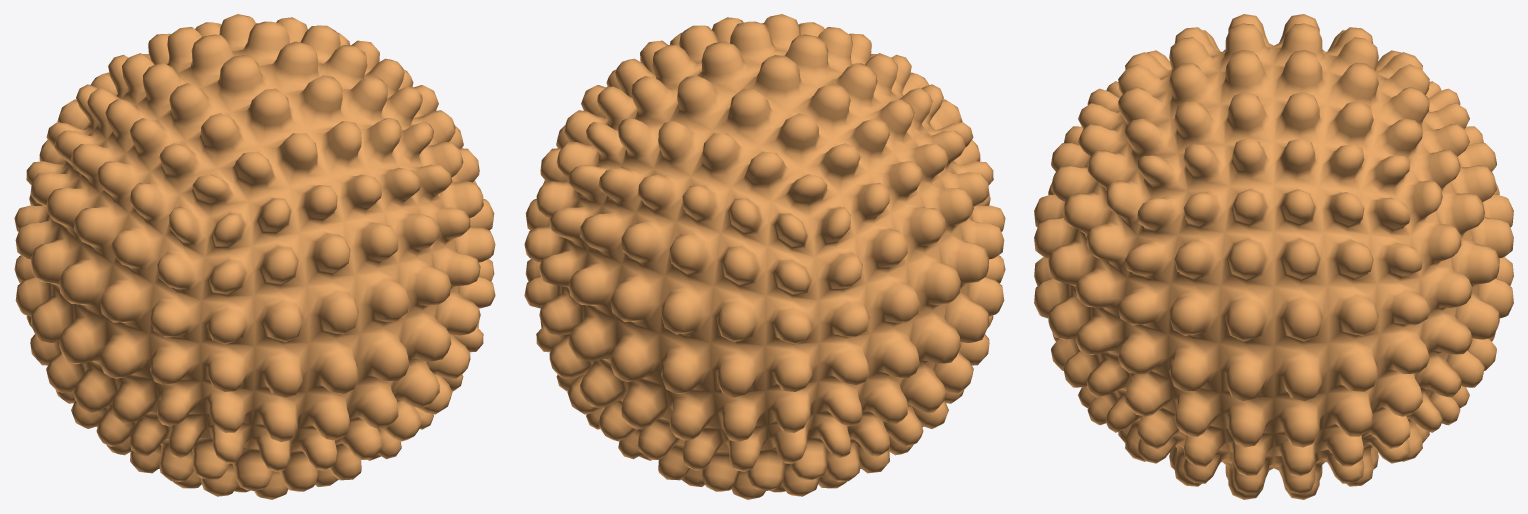
The model's file is enemy.gltf.
The picture shows the model from 3 angles, left to right: view 1: azimuth 30°, elevation 25°; view 2: azimuth 150°, elevation 25°; view 3: azimuth 270°, elevation 25°; orthographic projection.
Parts seen in each view (by area): view 1: enemy; view 2: enemy; view 3: enemy.
Part boxes in pixels (bbox=[...]): enemy: bbox=[14, 14, 495, 499]; enemy: bbox=[524, 14, 1005, 499]; enemy: bbox=[1034, 14, 1513, 499].
Bounding box in the file's own units: 3.94 × 3.94 × 3.94.
